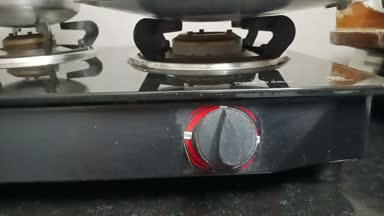noflame_gason: (148, 19, 282, 172)
